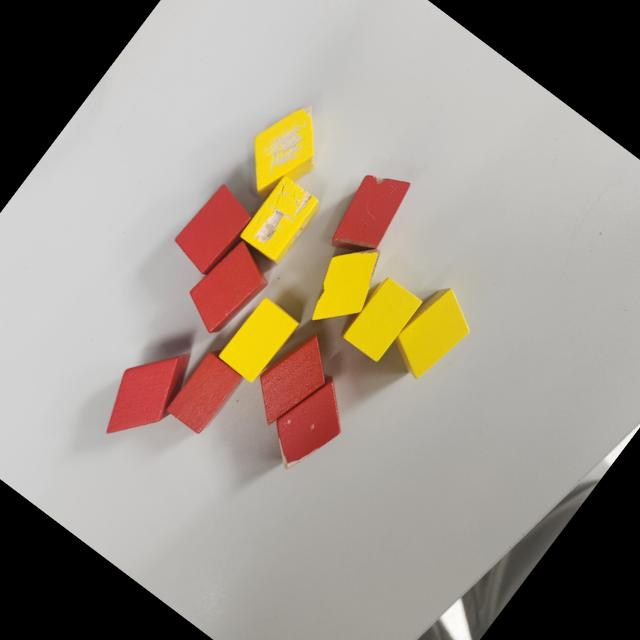broken: (226, 91, 342, 214), (254, 365, 364, 484), (293, 230, 397, 342), (318, 158, 421, 268), (237, 174, 324, 268)
red: (85, 328, 206, 459), (236, 320, 348, 441), (174, 231, 282, 347), (165, 178, 262, 282), (161, 342, 251, 440)
yellow: (380, 278, 484, 391), (212, 290, 304, 390), (337, 271, 426, 368)
